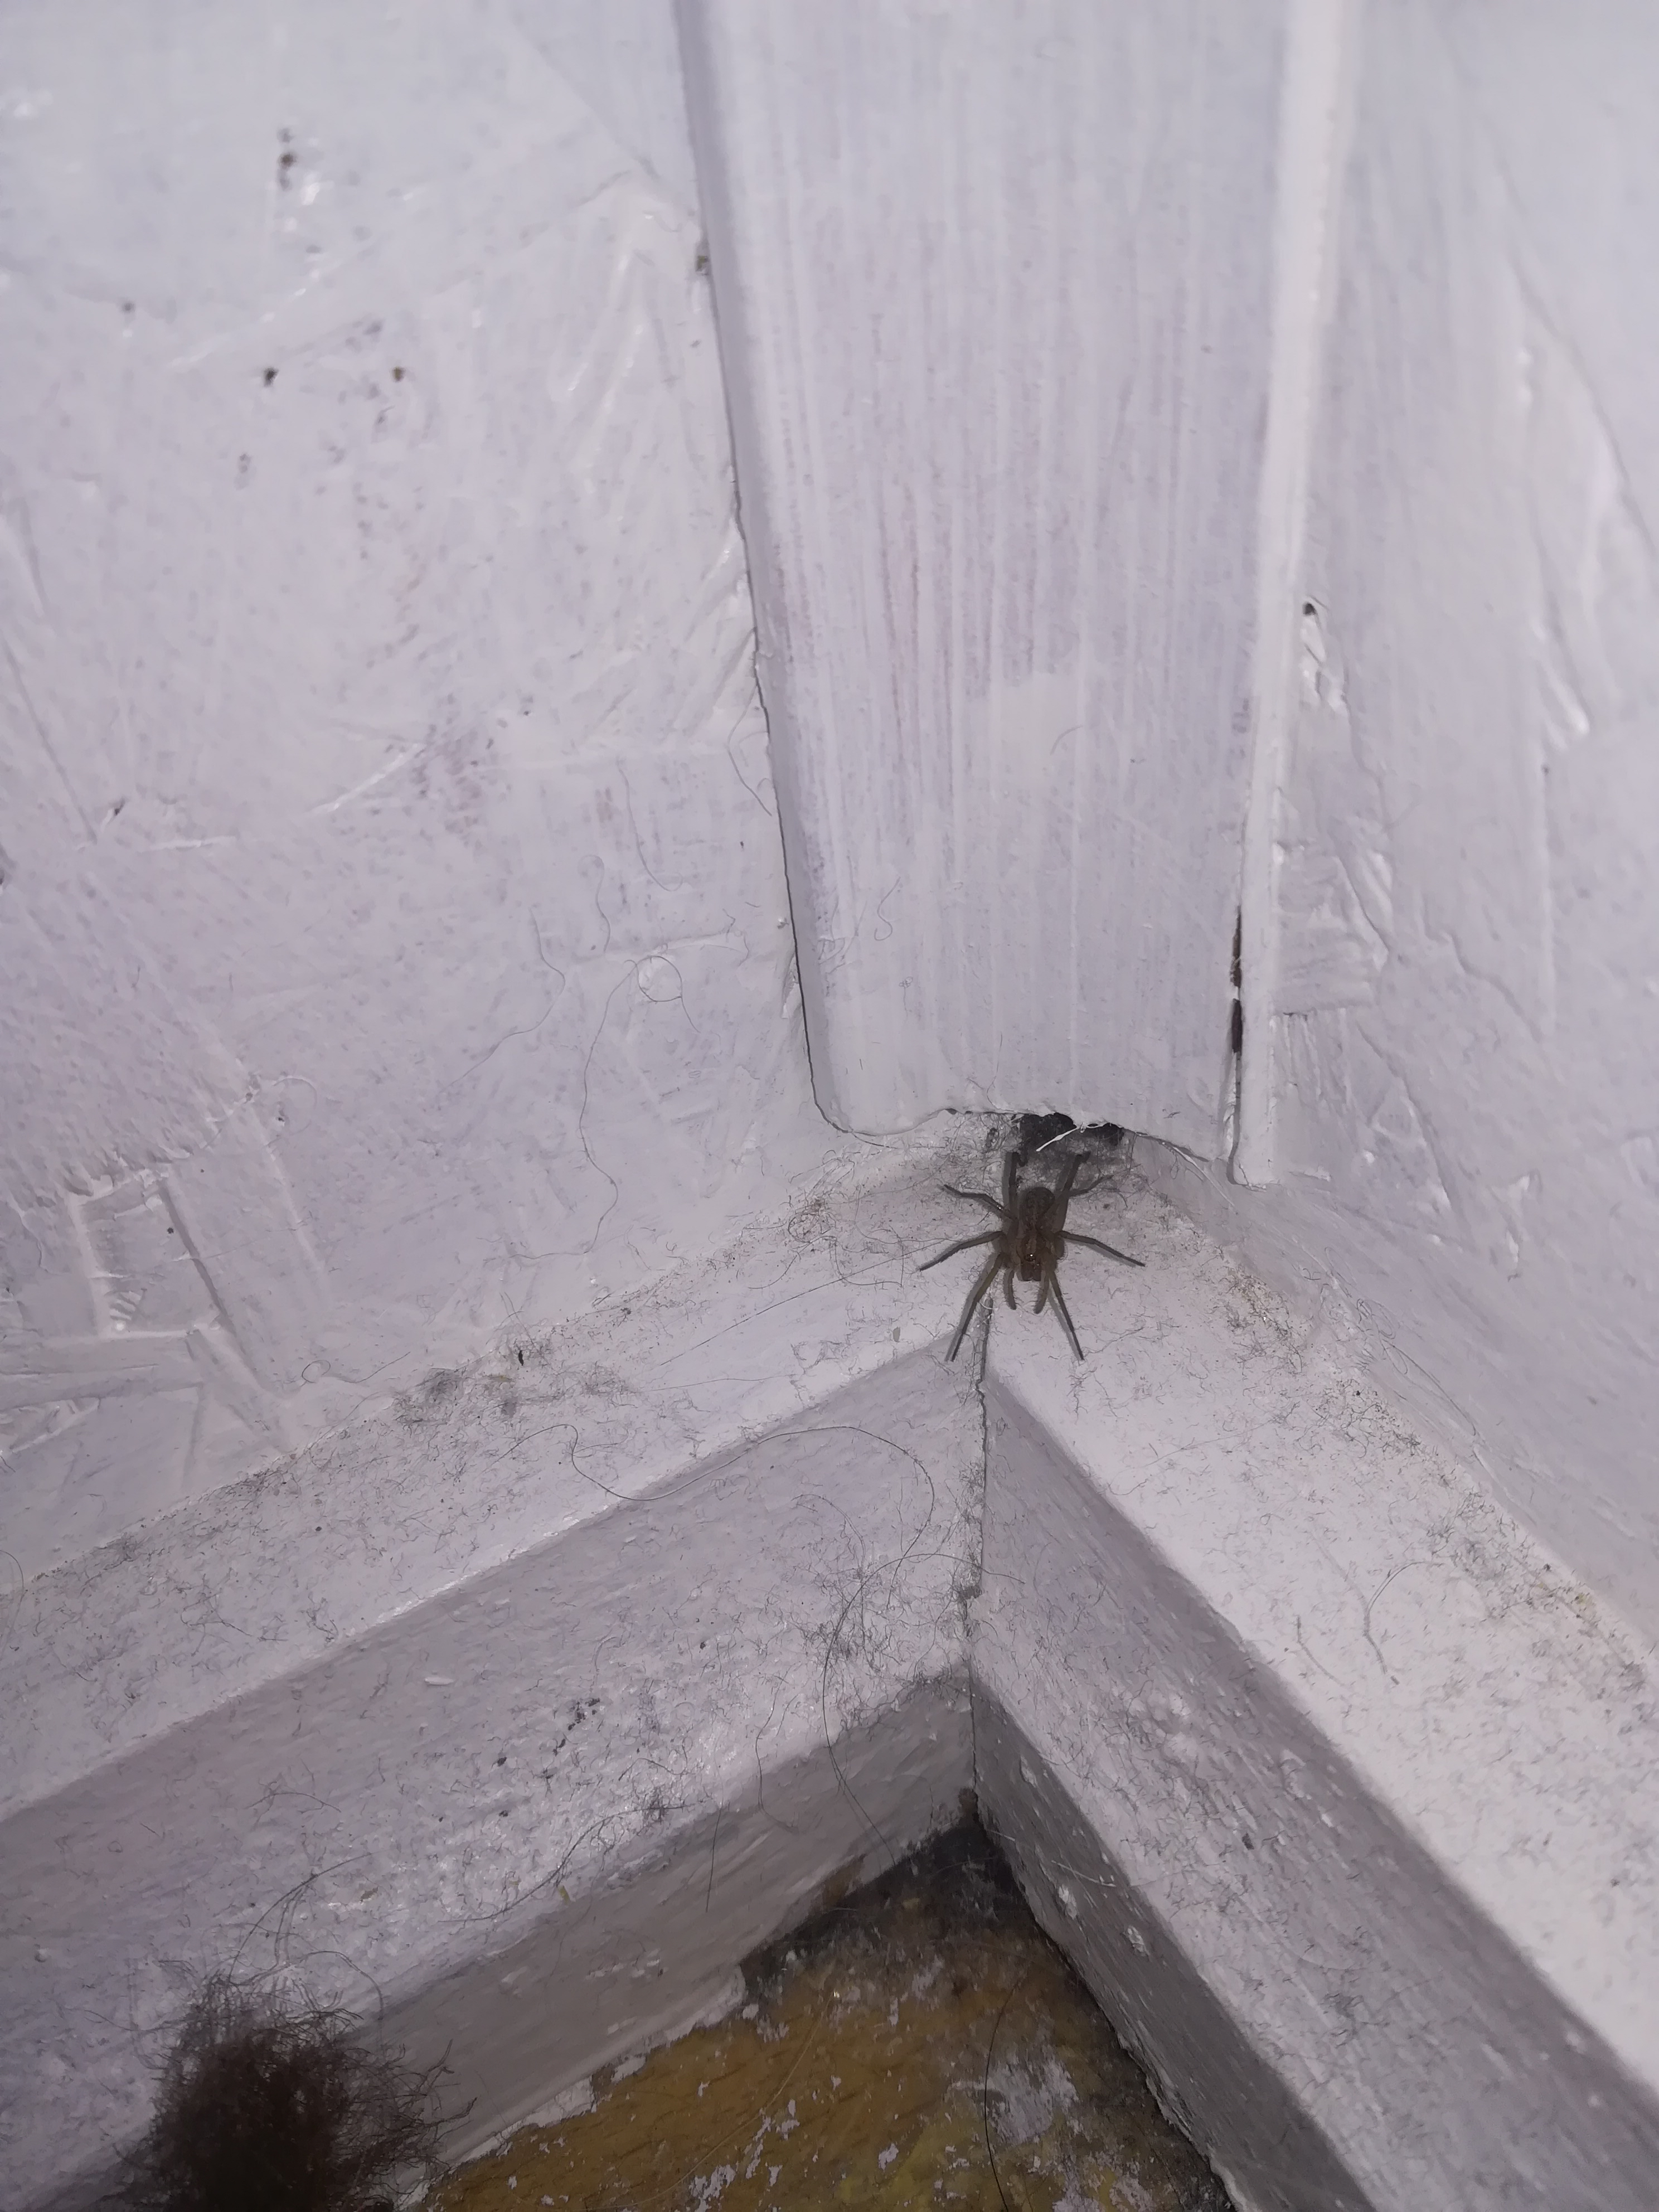spider: (861, 1076, 1178, 1407)
